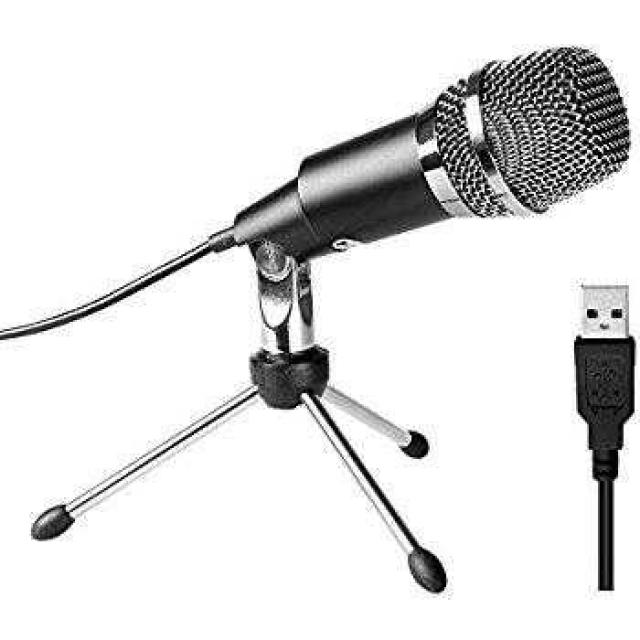microphone: (236, 47, 625, 271)
